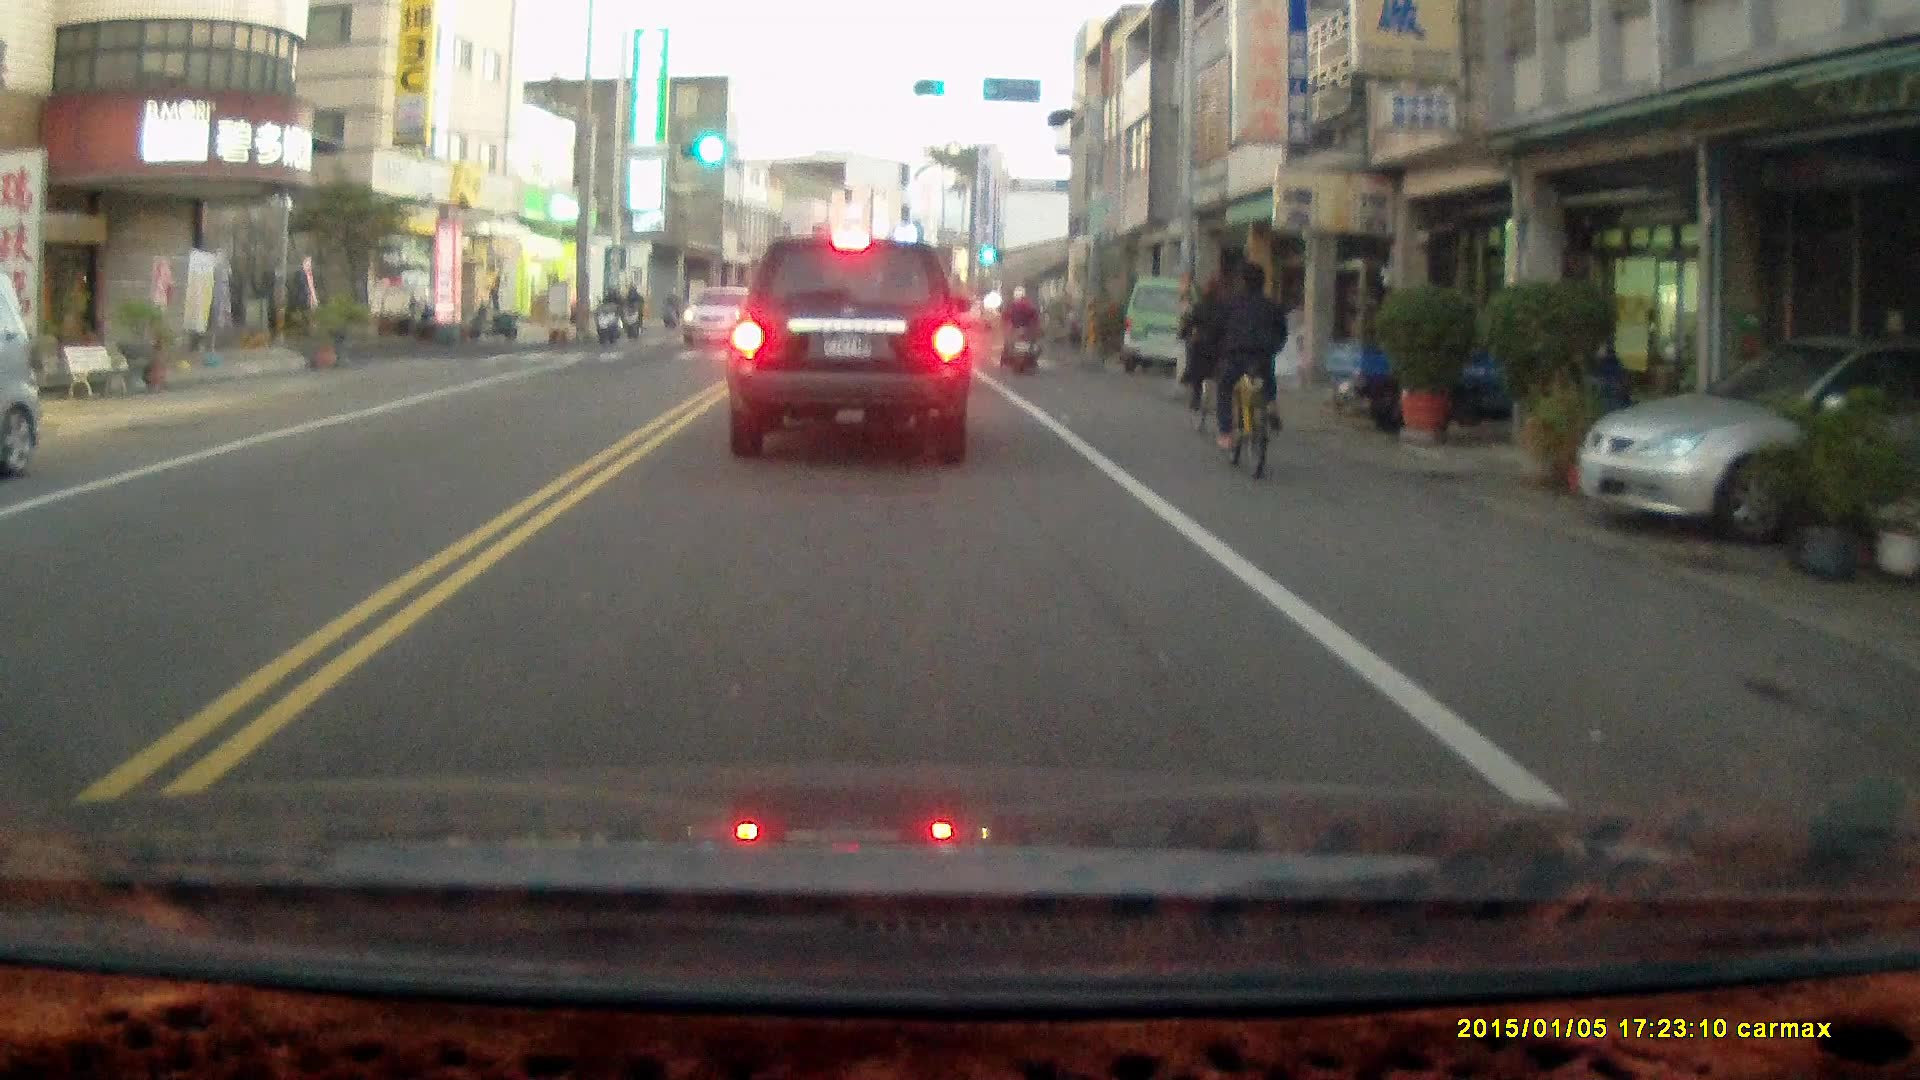pedestrian: (482, 262, 502, 314)
rider: (1206, 262, 1289, 479), (1178, 275, 1242, 445), (993, 284, 1046, 375), (591, 282, 626, 350), (617, 281, 643, 342), (661, 287, 681, 326)
vehicle: (1575, 339, 1920, 555), (732, 234, 975, 466), (1, 272, 46, 482), (1128, 277, 1223, 370), (677, 286, 775, 347)
